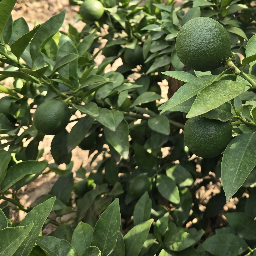fruit: (176, 17, 232, 71), (184, 116, 232, 158), (33, 99, 70, 135), (79, 0, 105, 22), (129, 174, 152, 198), (124, 45, 144, 66), (79, 131, 96, 150), (74, 179, 89, 197), (0, 96, 15, 114)
